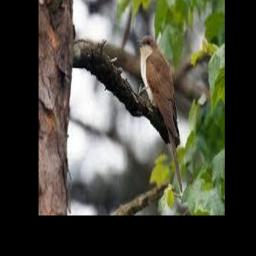Cuckoo: (137, 36, 183, 193)
